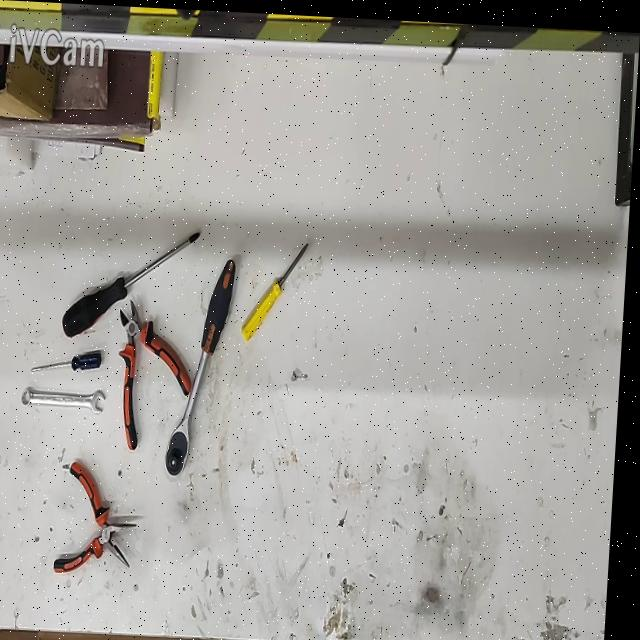Screwdriver: (65, 230, 202, 337), (245, 239, 311, 338), (35, 352, 106, 371)
